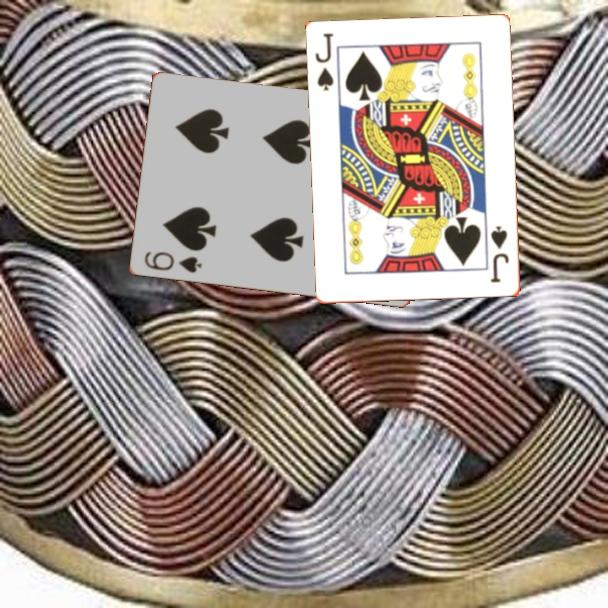s06: (140, 248, 204, 276)
s11: (312, 30, 337, 94), (487, 223, 512, 286)
